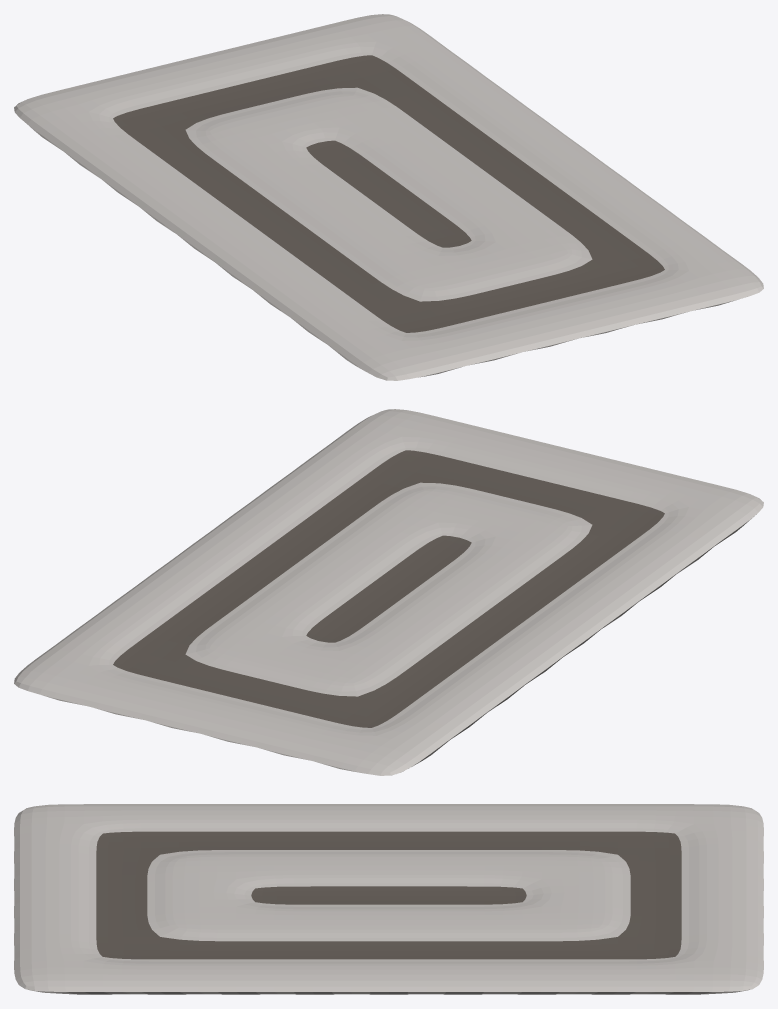
File: Rug2.glb
3 views of the same model, one above another, from view 1: azimuth 30°, elevation 25°; view 2: azimuth 150°, elevation 25°; view 3: azimuth 270°, elevation 25° (orthographic). The views are drawn at different scales.
Parts seen in each view (by area): view 1: Plane.019; view 2: Plane.019; view 3: Plane.019.
Boxes of the visible parts, x1=… form: Plane.019: x1=14, y1=14, x2=763, y2=380; Plane.019: x1=14, y1=409, x2=763, y2=775; Plane.019: x1=14, y1=804, x2=763, y2=994.
Bounding box in the file's own units: 1.95 × 0.0965 × 3.31.
1 material, 1 textured.
